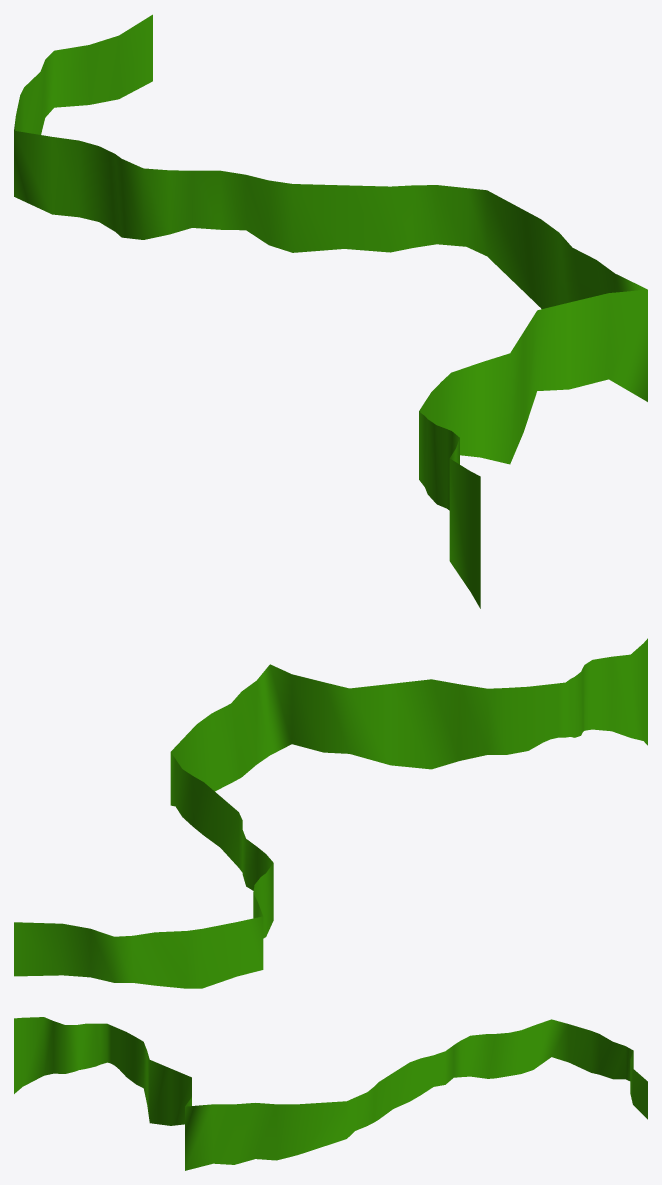
File: M4_InvisPolly4.glb
3 views of the same model, one above another, from view 1: azimuth 30°, elevation 25°; view 2: azimuth 150°, elevation 25°; view 3: azimuth 270°, elevation 25° (orthographic). The views are drawn at different scales.
Parts seen in each view (by area): view 1: M4_INVISPOLLY4; view 2: M4_INVISPOLLY4; view 3: M4_INVISPOLLY4.
Part boxes in pixels (x1,y1,x2,y2): M4_INVISPOLLY4: [14, 14, 647, 608]; M4_INVISPOLLY4: [14, 638, 647, 988]; M4_INVISPOLLY4: [14, 1017, 647, 1170].
Bounding box in the file's own units: 40.11 × 15.89 × 120.
